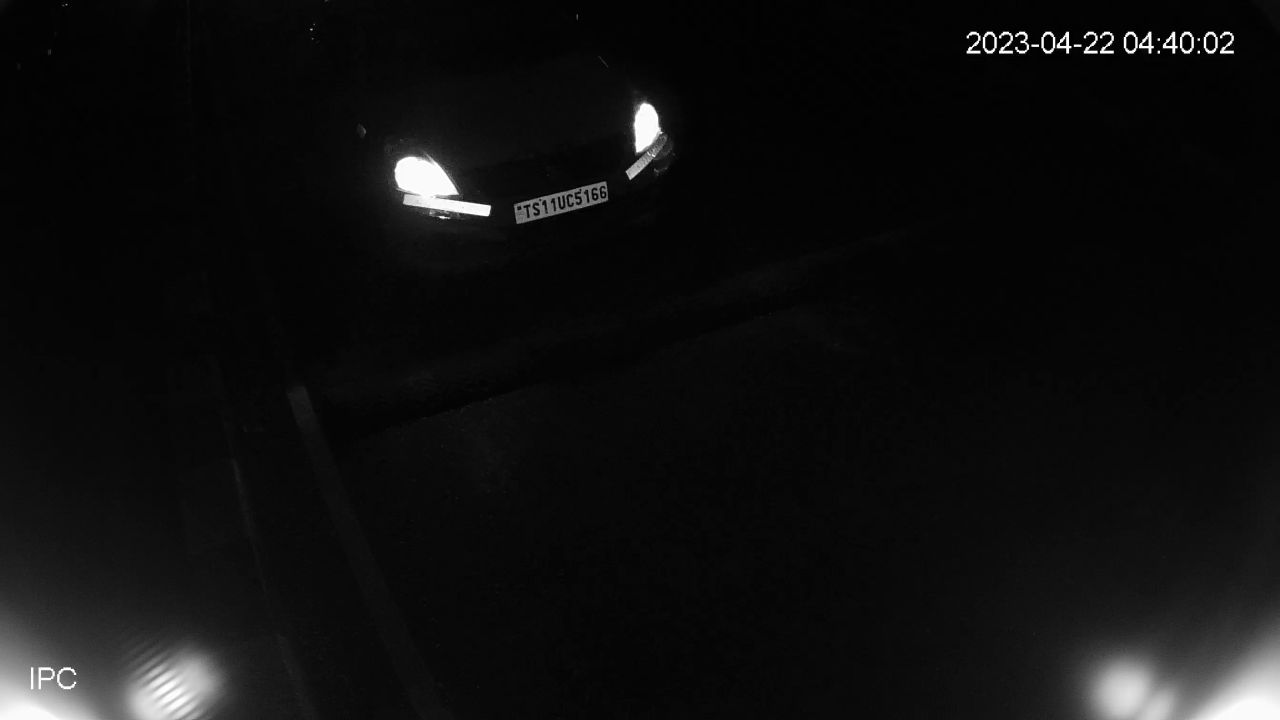license_plate: (506, 170, 617, 229)
